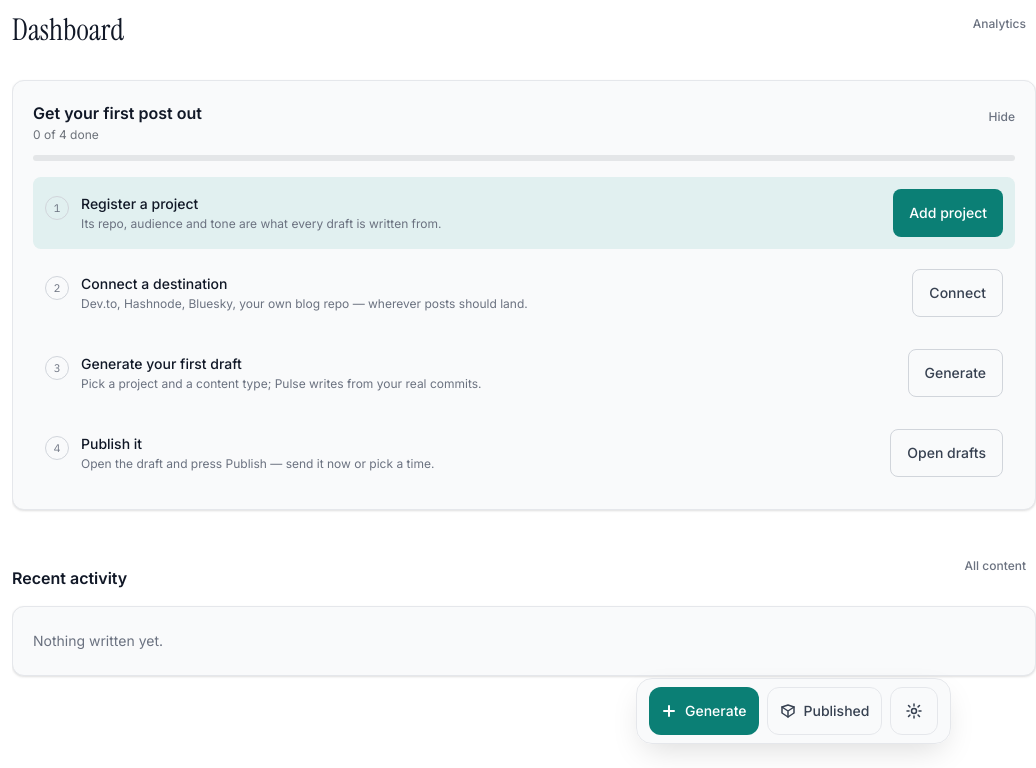
an empty account › falls back to the empty state once setup is hidden
Click the button "Hide": (1002, 117) [979,93,1025,141]
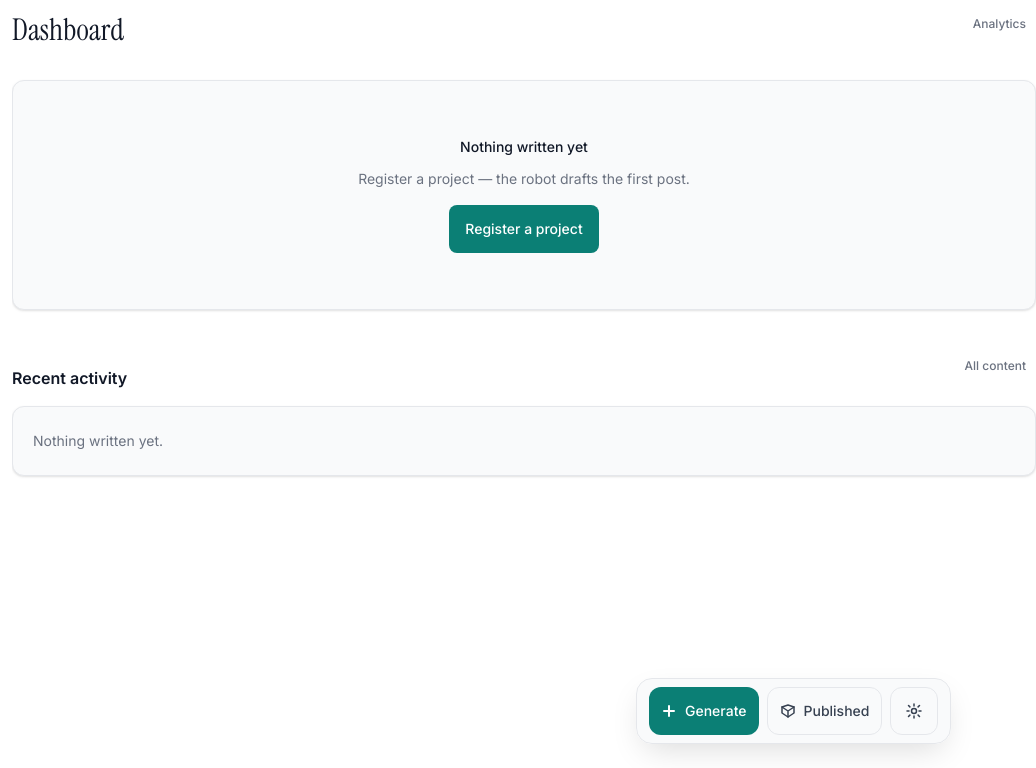
Now the text "Nothing written yet" is shown, box [460,137,588,157]
